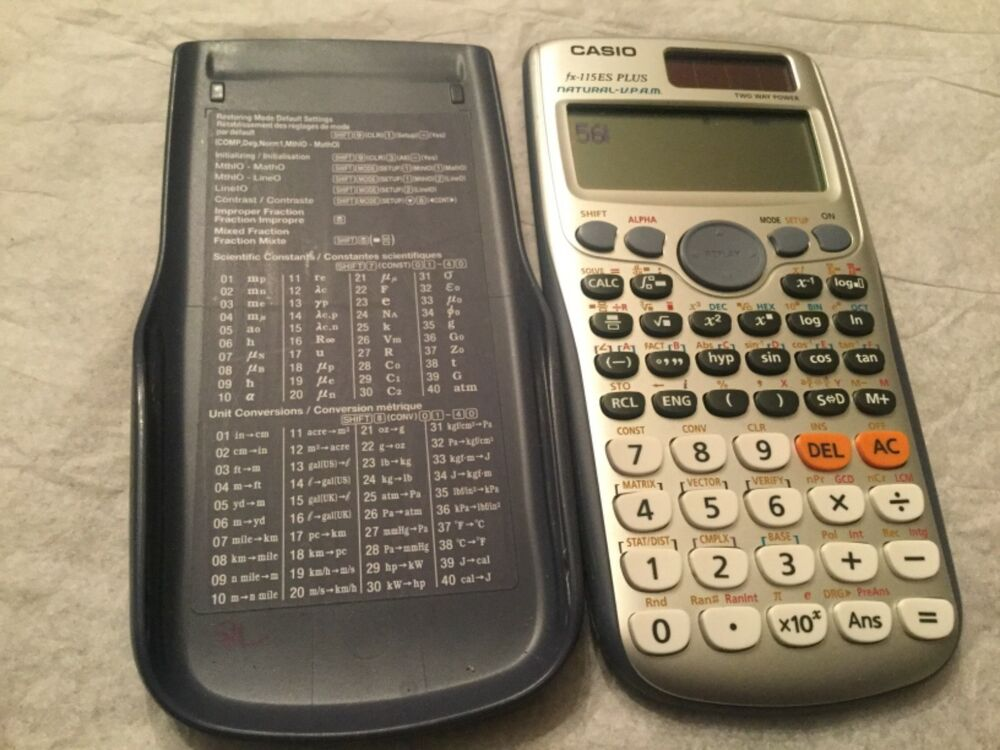Calculator: (519, 23, 969, 718)
